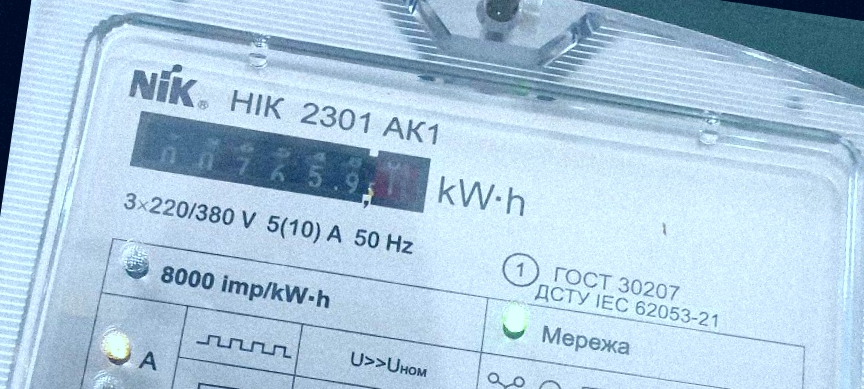0: (156, 140, 178, 168), (194, 146, 216, 174)
1: (381, 166, 400, 200)
5: (302, 160, 328, 190)
6: (266, 158, 289, 184)
7: (230, 152, 253, 180)
9: (339, 167, 361, 196)
screen: (116, 96, 444, 230)
